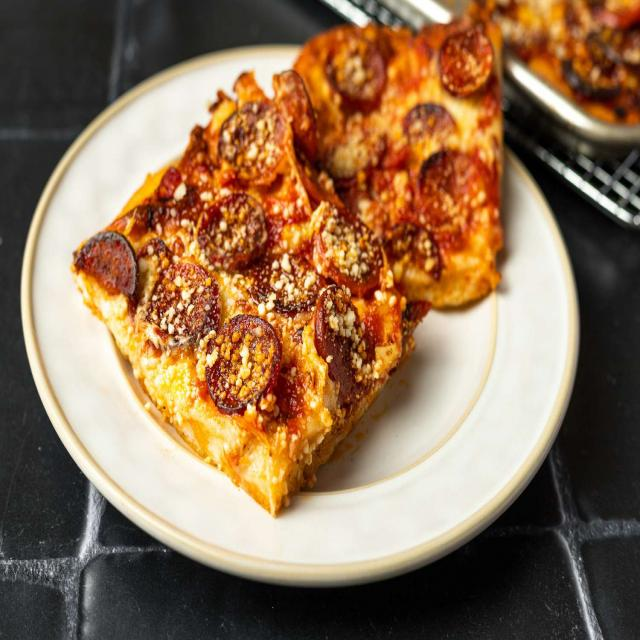pizza: (70, 20, 506, 518)
